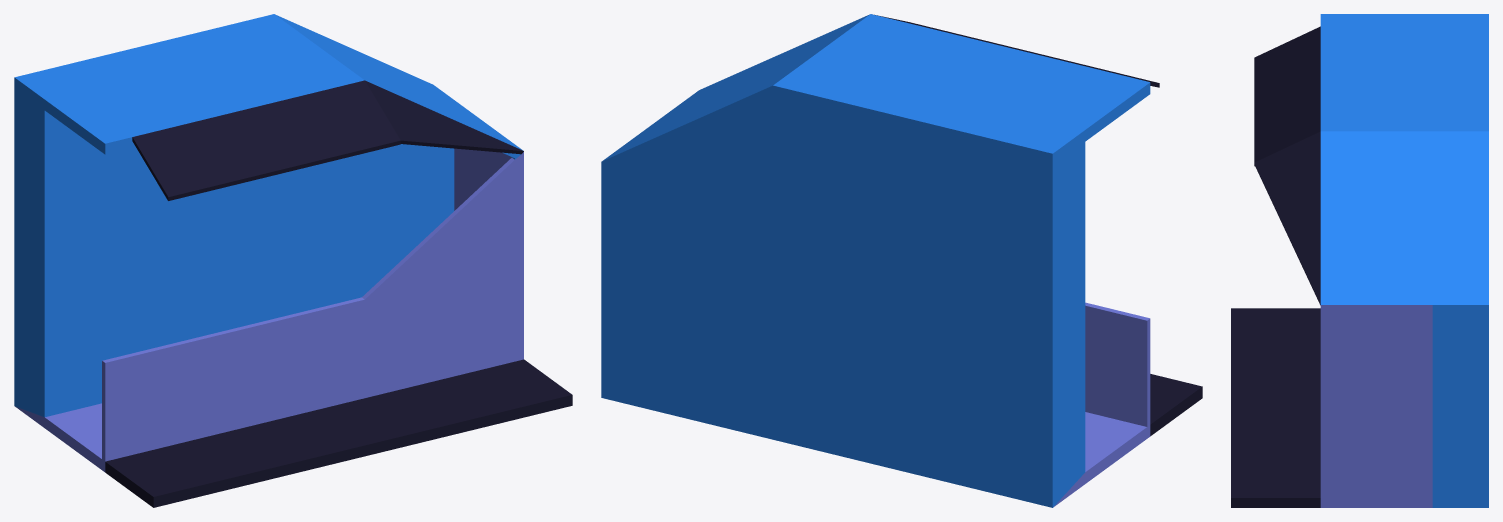
3 renders of one model, left to right at view 1: azimuth 30°, elevation 25°; view 2: azimuth 150°, elevation 25°; view 3: azimuth 270°, elevation 25°, orthographic. The views are drawn at different scales.
Parts seen in each view (by area): view 1: Mesh_0.006; view 2: Mesh_0.006; view 3: Mesh_0.006.
Boxes of the visible parts, bbox=[...] form: Mesh_0.006: bbox=[14, 14, 572, 507]; Mesh_0.006: bbox=[601, 14, 1202, 507]; Mesh_0.006: bbox=[1231, 14, 1488, 507].
Bounding box in the file's own units: 4 × 3 × 2.3.
